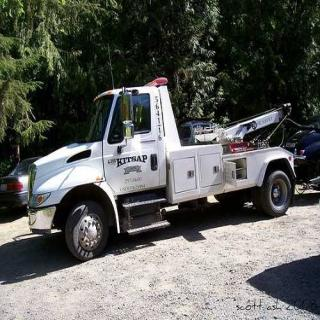Towing_truck: (25, 75, 297, 262)
